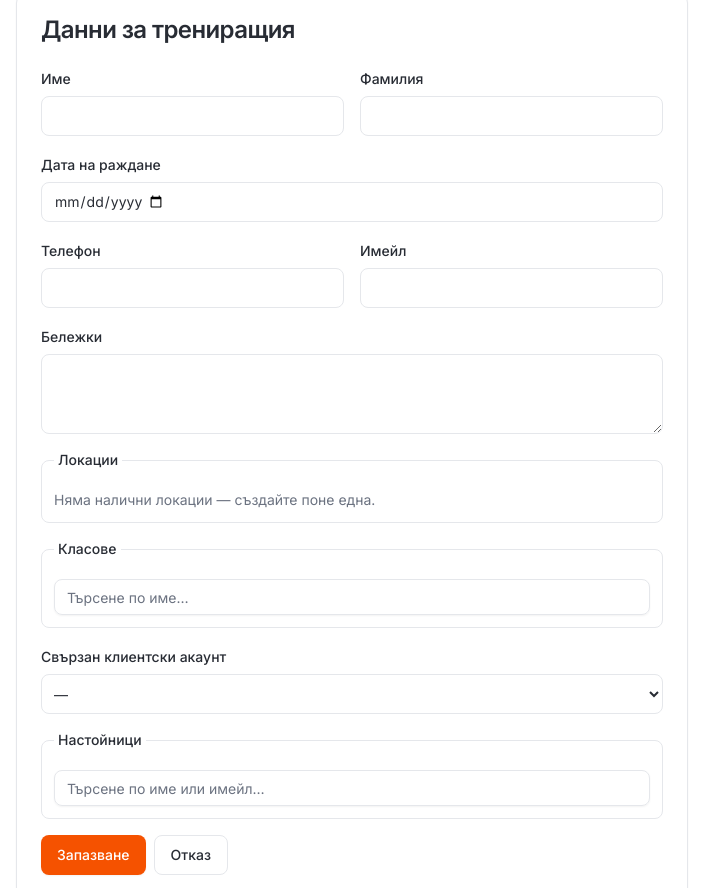
NewTraineePage — dynamic guardian-contacts section (PRD) › says what is wrong and wires the a11y attributes when submitted empty
(page scrolled)
Expected: the field labelled "Име" is shown, [41,96,344,136]
Click the button "Запазване".
click(93, 855)  # box [41,835,146,875]
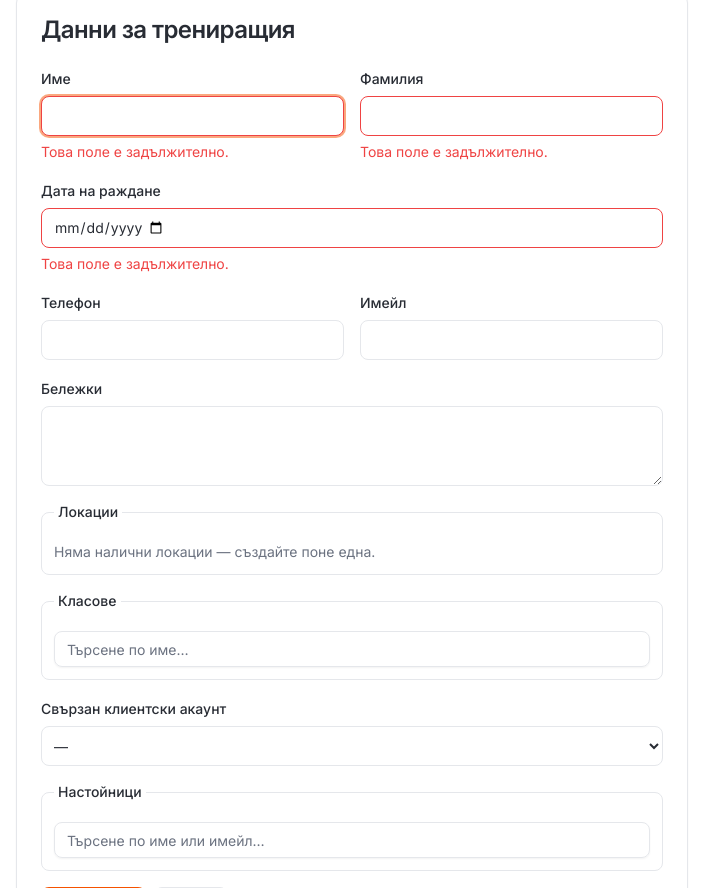
Result: the 1st text "Това поле е задължително." is shown at [41,143,229,160]
